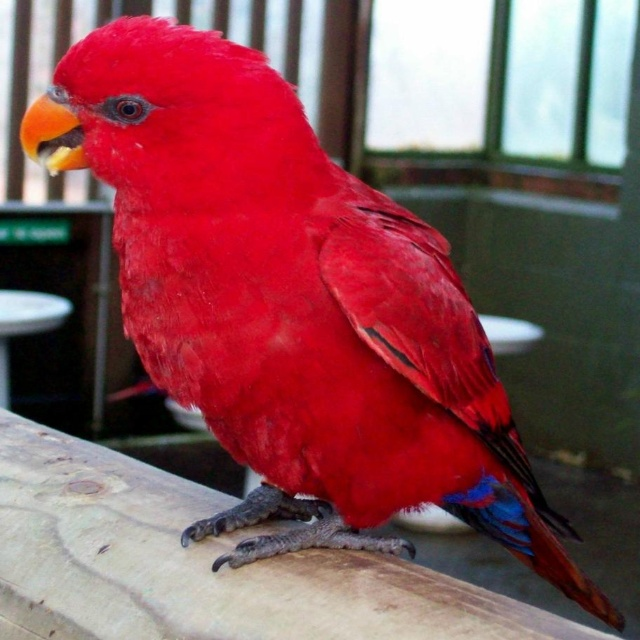Parrot: (21, 14, 626, 634)
